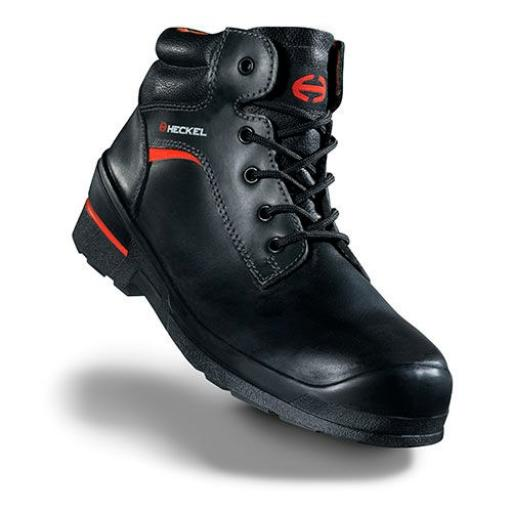safety_boots: (70, 110, 461, 450)
